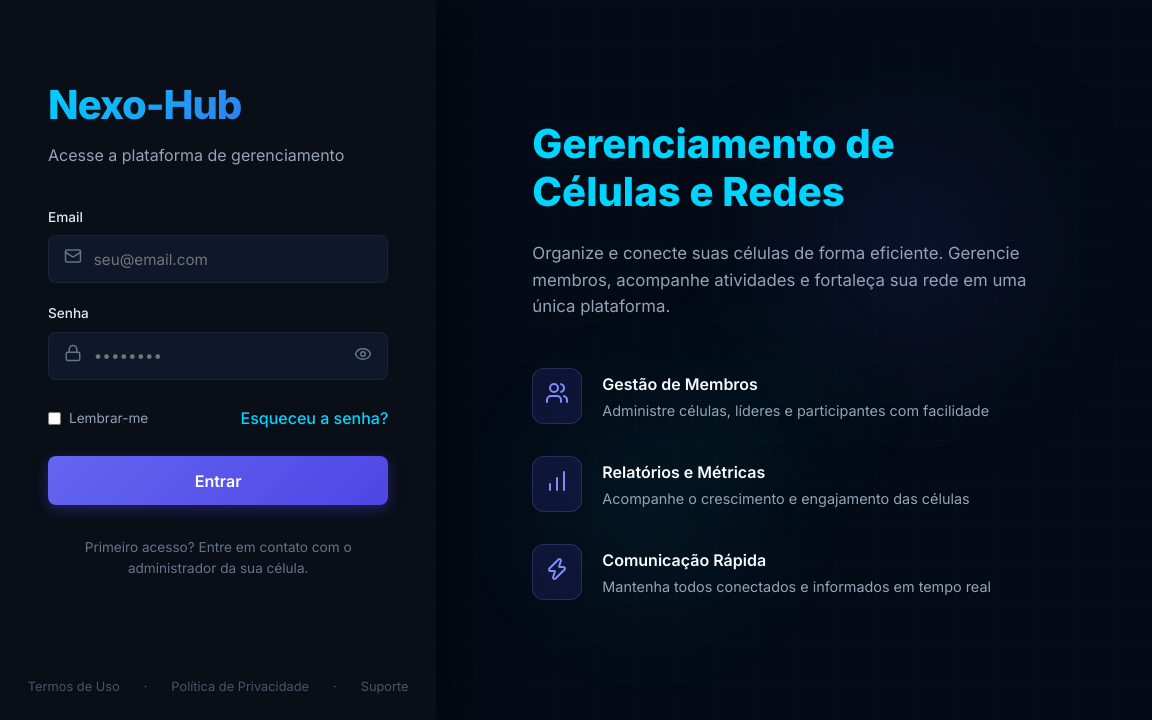
🔒 Suite de Testes: Tela de Login › 2️⃣ UX Defense: Mostra ALERTA VERMELHO e barra requisições se campos estiverem VAZIOS
Click the button "Entrar": (218, 481) [48, 456, 388, 505]
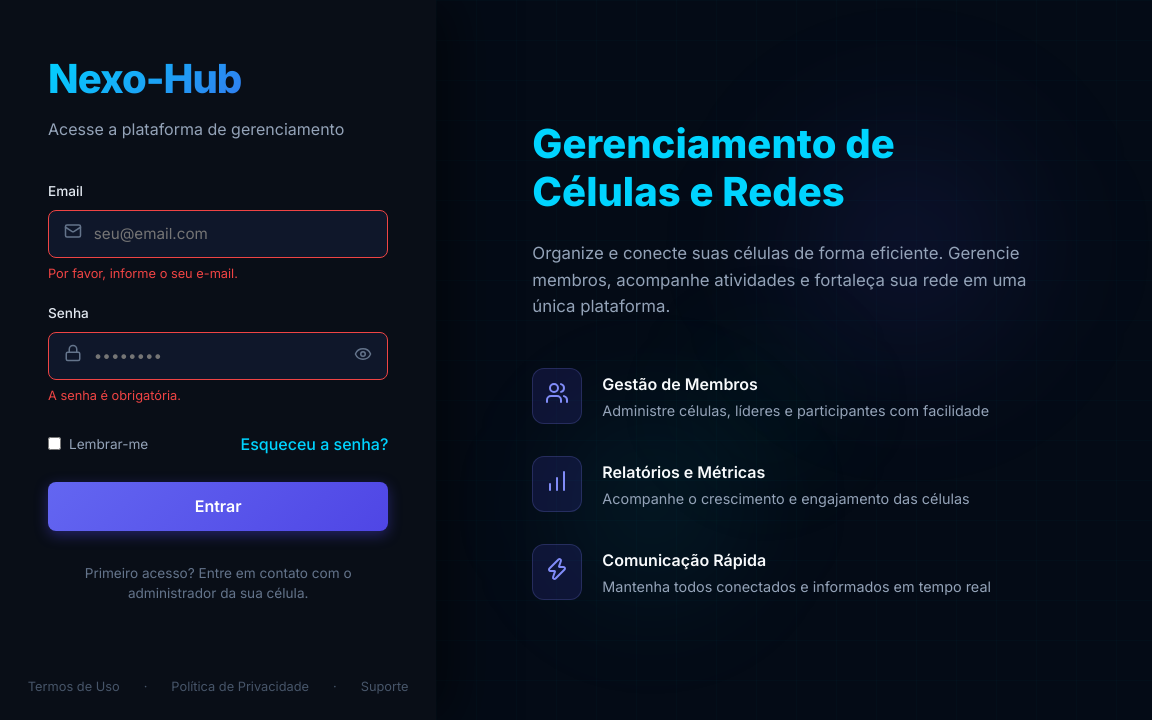
Now the text "Por favor, informe o seu e-mail." is shown, box [48, 266, 238, 281]
Now the text "A senha é obrigatória." is shown, box [48, 388, 181, 403]
